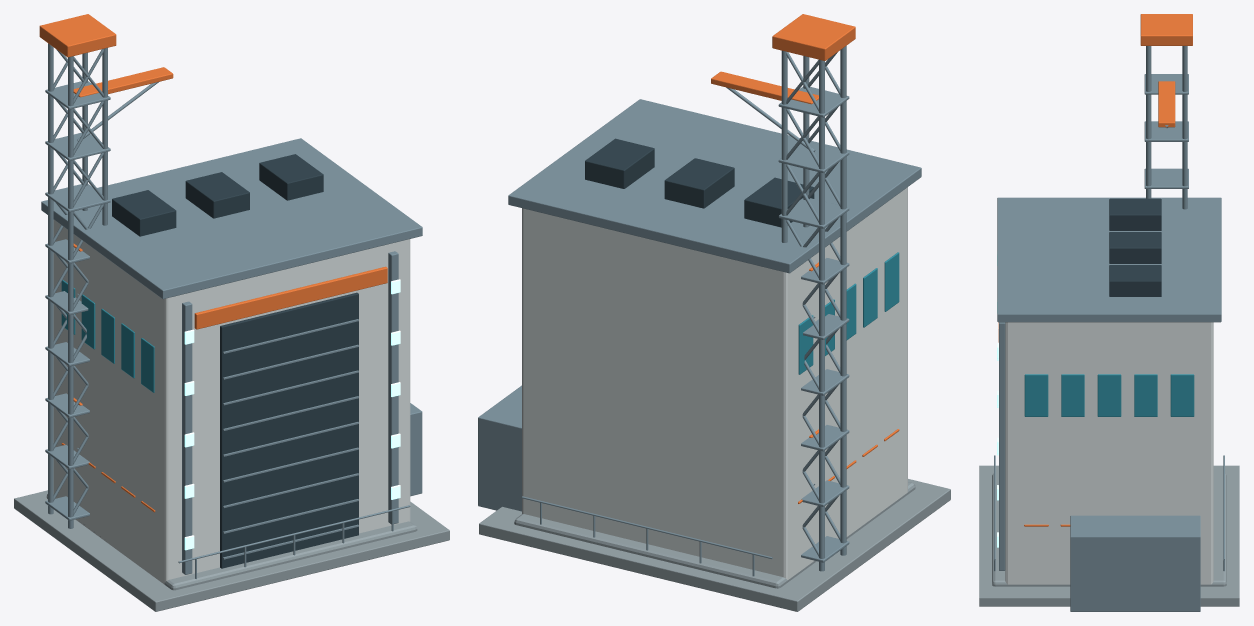
Rendered from rocket-models.glb.
3 renders of one model, left to right at view 1: azimuth 30°, elevation 25°; view 2: azimuth 150°, elevation 25°; view 3: azimuth 270°, elevation 25°, orthographic. The views are drawn at different scales.
Visible parts, largest first — view 1: vab, pad; view 2: vab, pad; view 3: vab, pad.
Boxes of the visible parts, x1,y1,x2,y2 form: vab: (14,138,449,611); pad: (39,14,417,590); vab: (478,99,950,611); pad: (514,14,915,588); vab: (979,197,1239,611); pad: (992,14,1226,586).
Size of the model in its own units: 12.9 by 19.52 by 10.
